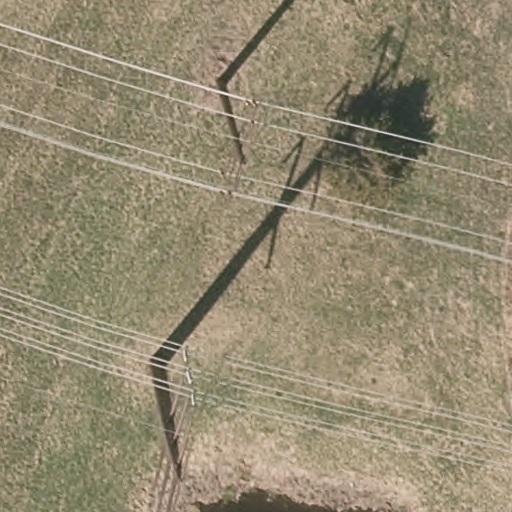TT: (222, 98, 261, 198)
